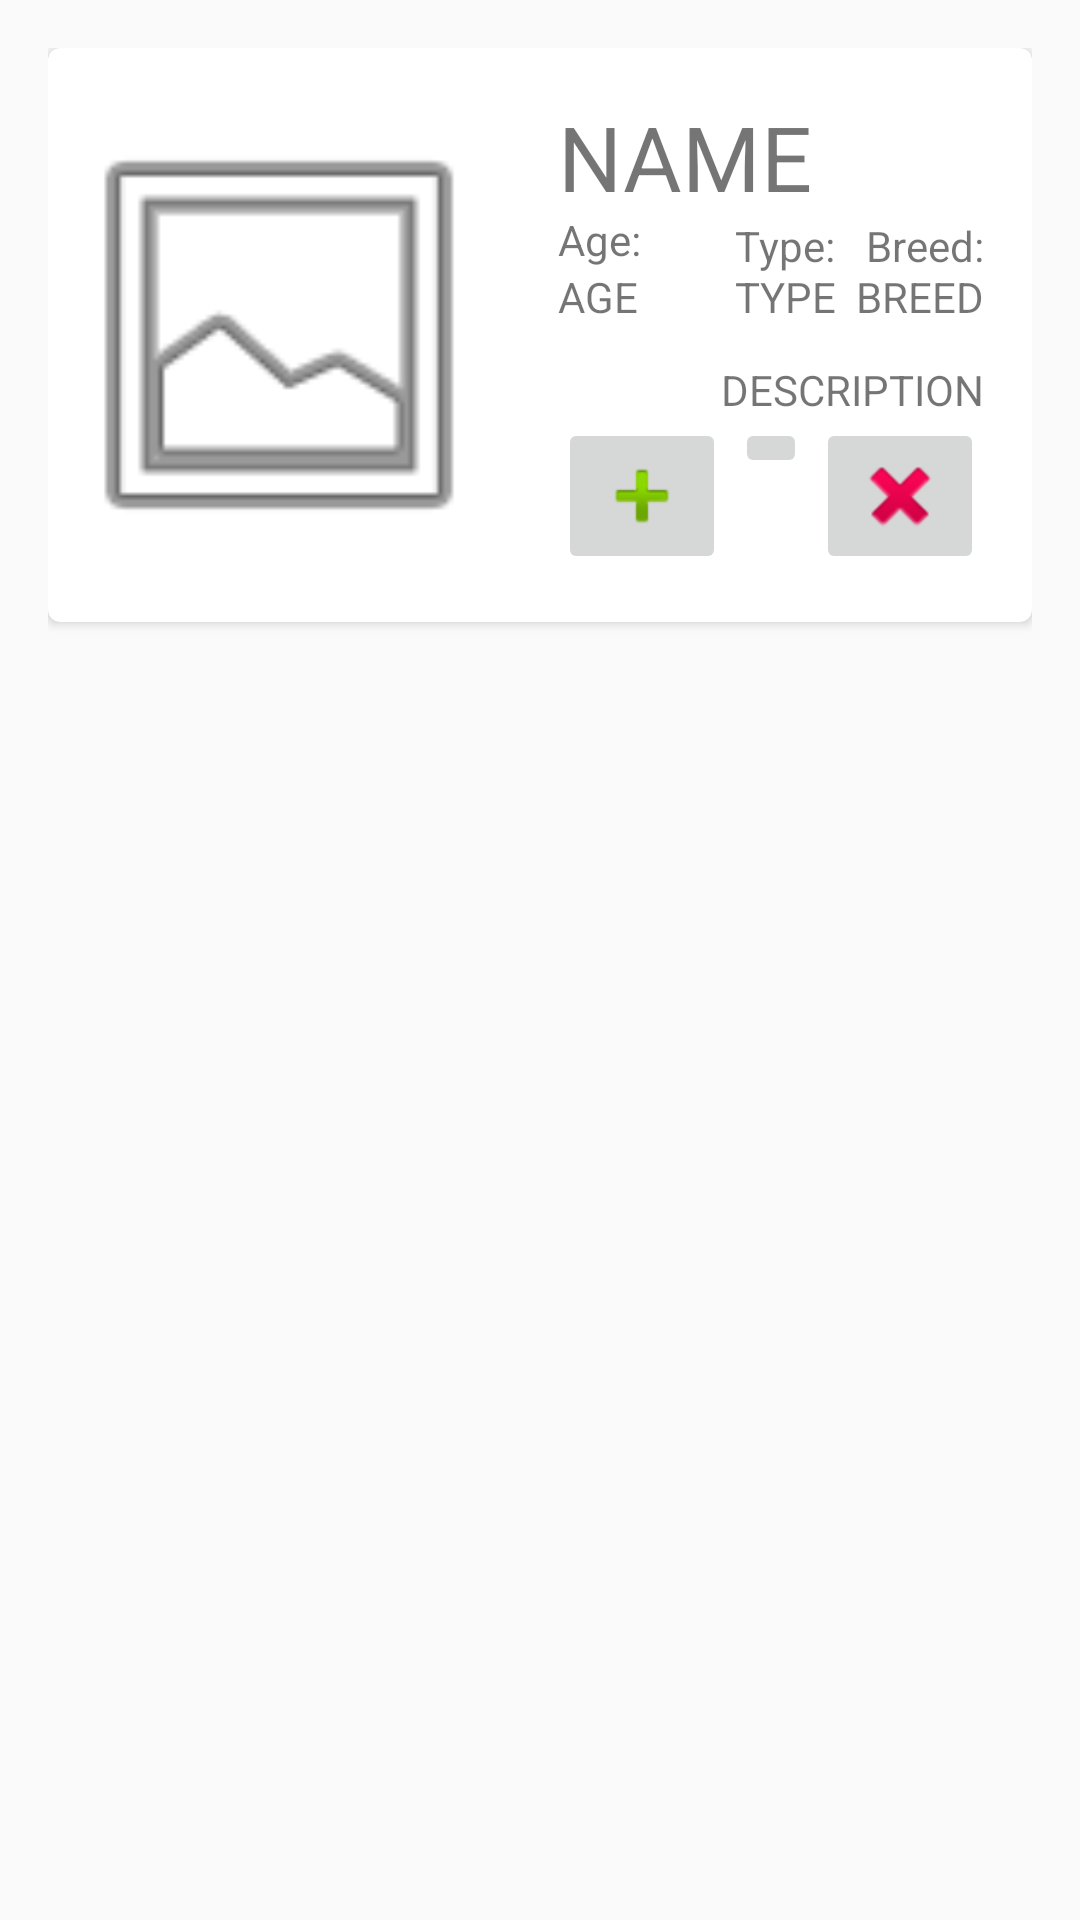

Icons on this 1080×1920 Android screen, each with its box as (x1, y1, x2, y2):
Remove: (828, 436, 972, 556)
